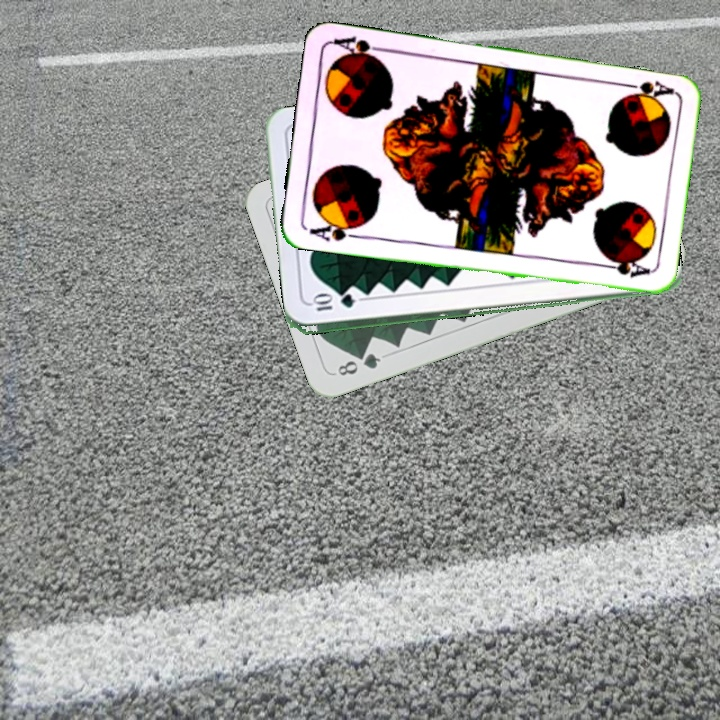G10: (308, 294, 358, 314)
G8: (333, 349, 384, 379)
SA: (305, 216, 364, 244), (617, 76, 676, 102)
